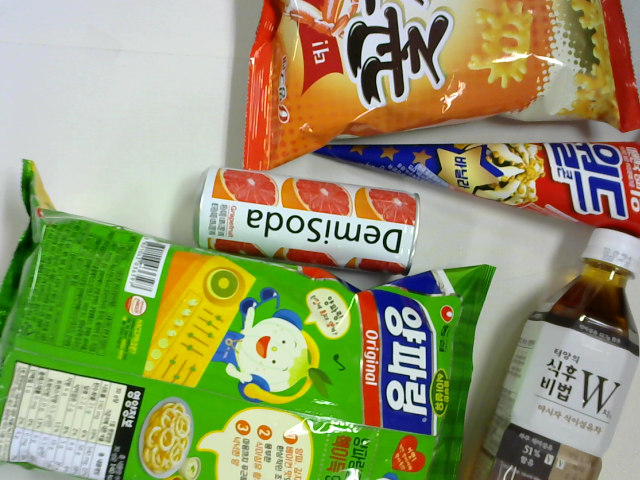Crabrang: (242, 1, 640, 172)
Demisoda_Grapefruit_Can_250ml: (191, 167, 418, 277)
Oninon_Ring: (1, 157, 495, 479)
Post-meal_recipe_W_tea_500ml: (470, 226, 640, 479)
World_Cone_Banila: (309, 137, 640, 241)
